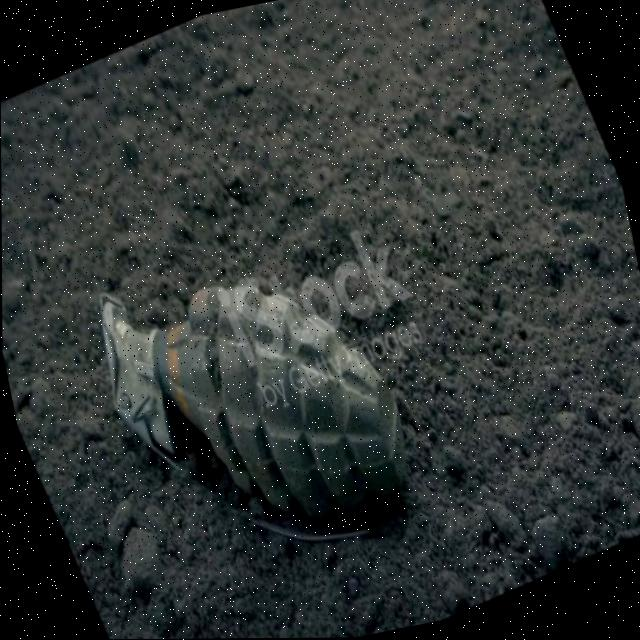grenade: (63, 190, 457, 630)
